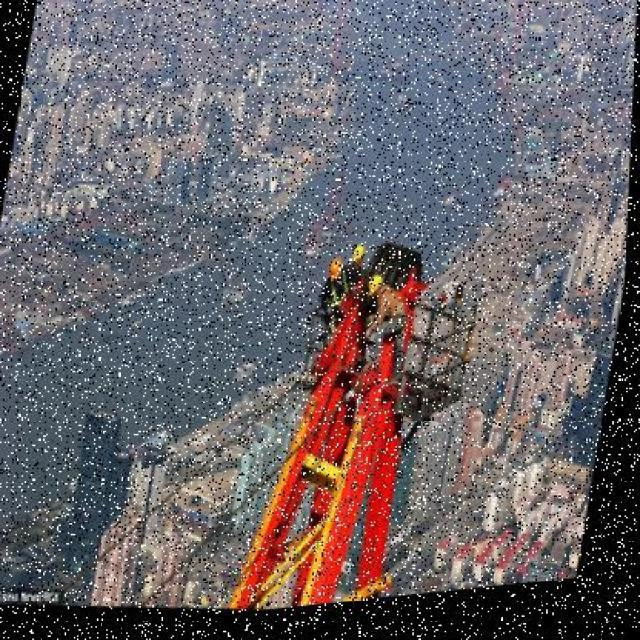helmet: (328, 263, 348, 291), (368, 280, 388, 308), (354, 245, 370, 271)
